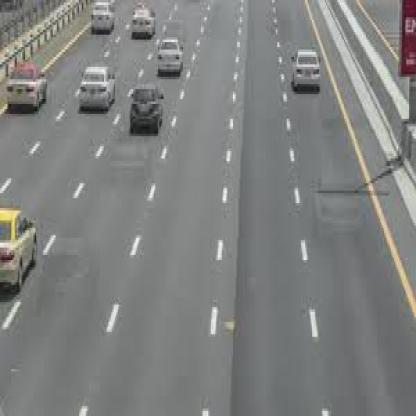car: (0, 181, 47, 301), (286, 34, 334, 118), (6, 56, 52, 126), (72, 58, 116, 116), (128, 78, 174, 132), (125, 2, 168, 49), (86, 0, 131, 38), (156, 40, 185, 84)
